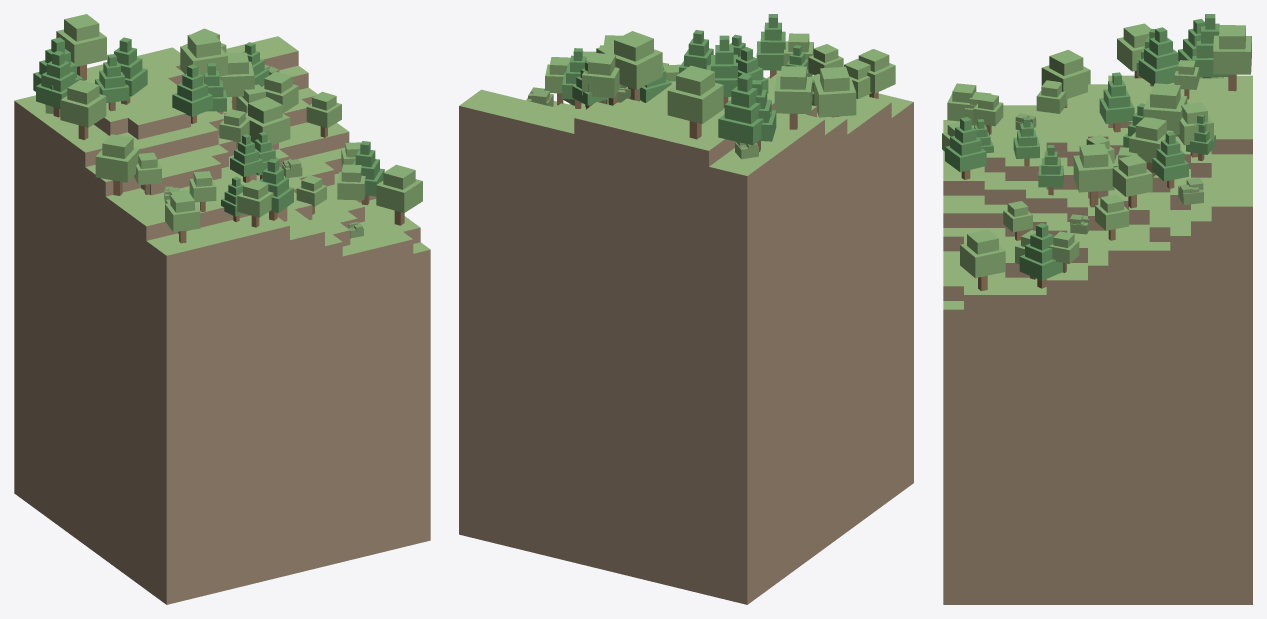
The model's file is block_20_terracing_100.glb.
The picture shows the model from 3 angles, left to right: view 1: azimuth 30°, elevation 25°; view 2: azimuth 150°, elevation 25°; view 3: azimuth 270°, elevation 25°; orthographic projection. The views are drawn at different scales.
Visible parts, largest first — view 1: Patch_UpperRight_b20_TR, TR_Veg_20_021, TR_Veg_20_004, TR_Veg_20_035, TR_Veg_20_020, TR_Veg_20_005, TR_Veg_20_027, TR_Veg_20_011, TR_Veg_20_006, TR_Veg_20_000, TR_Veg_20_007, TR_Veg_20_026 (+16 smaller); view 2: Patch_UpperRight_b20_TR, TR_Veg_20_021, TR_Veg_20_027, TR_Veg_20_034, TR_Veg_20_020, TR_Veg_20_035, TR_Veg_20_014, TR_Veg_20_015, TR_Veg_20_026, TR_Veg_20_000, TR_Veg_20_011, TR_Veg_20_006 (+5 smaller); view 3: Patch_UpperRight_b20_TR, TR_Veg_20_021, TR_Veg_20_004, TR_Veg_20_005, TR_Veg_20_026, TR_Veg_20_008, TR_Veg_20_015, TR_Veg_20_020, TR_Veg_20_027, TR_Veg_20_010, TR_Veg_20_006, TR_Veg_20_007 (+16 smaller).
Boxes of the visible parts, x1,y1,x2,y2 form: Patch_UpperRight_b20_TR: (14, 36, 430, 604); TR_Veg_20_021: (56, 14, 106, 80); TR_Veg_20_004: (376, 164, 422, 225); TR_Veg_20_035: (60, 80, 106, 139); TR_Veg_20_020: (95, 134, 140, 195); TR_Veg_20_005: (245, 97, 290, 144); TR_Veg_20_027: (180, 31, 227, 82); TR_Veg_20_011: (36, 50, 75, 117); TR_Veg_20_006: (172, 64, 212, 123); TR_Veg_20_000: (165, 192, 200, 243); TR_Veg_20_007: (221, 52, 254, 110); TR_Veg_20_026: (114, 37, 147, 104); Patch_UpperRight_b20_TR: (459, 70, 913, 604); TR_Veg_20_021: (667, 65, 723, 139); TR_Veg_20_027: (607, 31, 662, 101); TR_Veg_20_034: (718, 74, 771, 145); TR_Veg_20_020: (813, 66, 856, 117); TR_Veg_20_035: (774, 66, 812, 129); TR_Veg_20_014: (582, 52, 621, 103); TR_Veg_20_015: (756, 14, 785, 78); TR_Veg_20_026: (706, 35, 737, 107); TR_Veg_20_000: (858, 49, 895, 98); TR_Veg_20_011: (752, 80, 776, 151); TR_Veg_20_006: (679, 30, 713, 73); Patch_UpperRight_b20_TR: (943, 75, 1252, 604); TR_Veg_20_021: (1213, 25, 1251, 91); TR_Veg_20_004: (960, 229, 1005, 291); TR_Veg_20_005: (1073, 143, 1114, 207); TR_Veg_20_026: (1138, 27, 1179, 85); TR_Veg_20_008: (1019, 223, 1062, 288); TR_Veg_20_015: (945, 117, 986, 179); TR_Veg_20_020: (1041, 49, 1090, 107); TR_Veg_20_027: (1143, 83, 1187, 134); TR_Veg_20_010: (1112, 154, 1152, 208); TR_Veg_20_006: (1099, 72, 1134, 132); TR_Veg_20_007: (1129, 117, 1173, 177).
Bounding box in the file's own units: 10.11 × 16.17 × 9.54.
